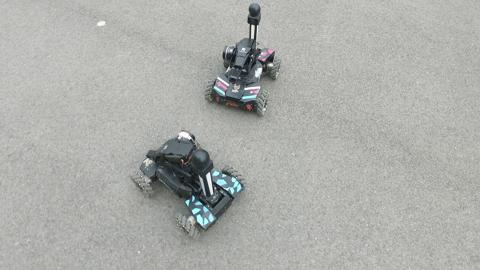chariot: (113, 120, 261, 242), (195, 2, 290, 122)
